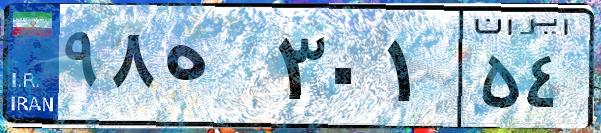0: (330, 28, 385, 110)
1: (385, 28, 445, 110)
3: (270, 28, 330, 110)
4: (525, 38, 570, 115)
5: (475, 38, 525, 113)
8: (110, 28, 158, 98)
9: (57, 26, 110, 100)
ه: (158, 20, 270, 120)
